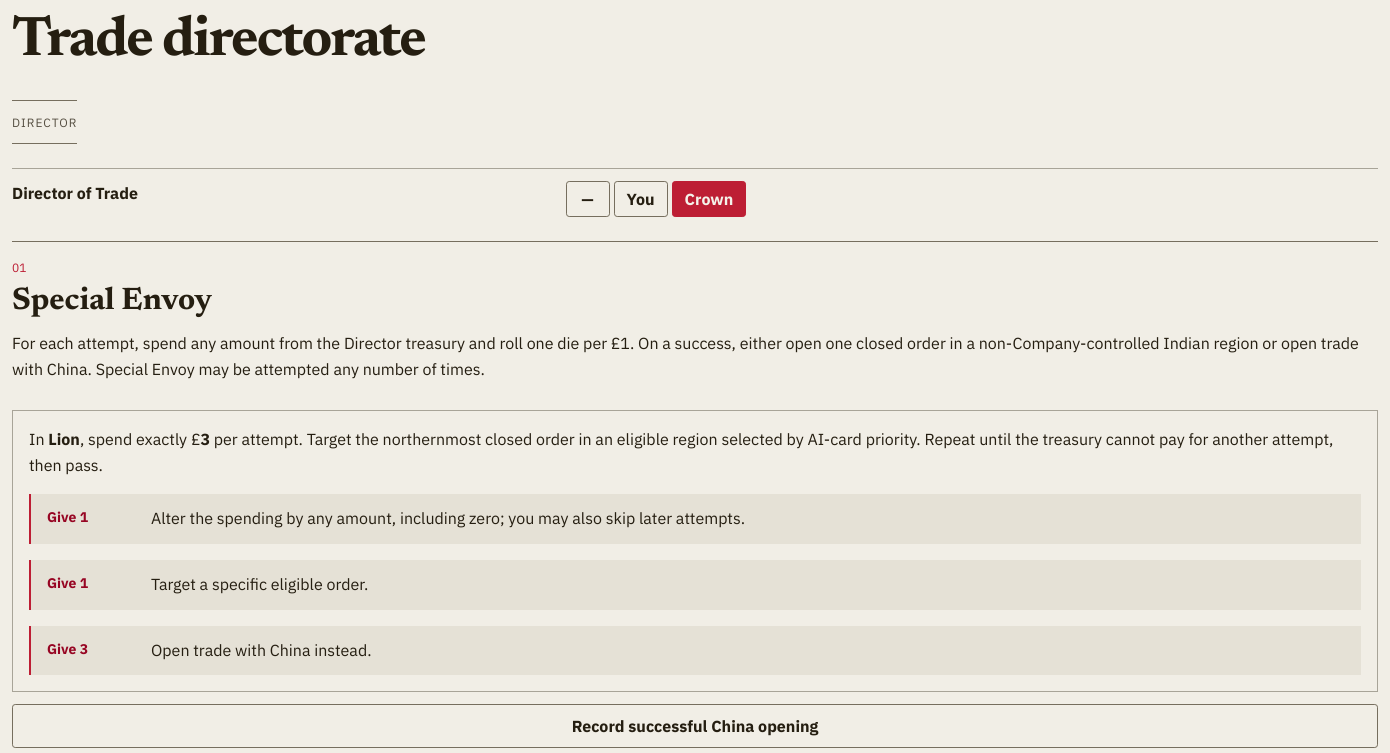
Test: solo operation phases › renders the Crown Director's active-climate procedure and records a successful China opening
Click the button "Record successful China opening": click(695, 726) [12, 704, 1378, 748]
(page scrolled)
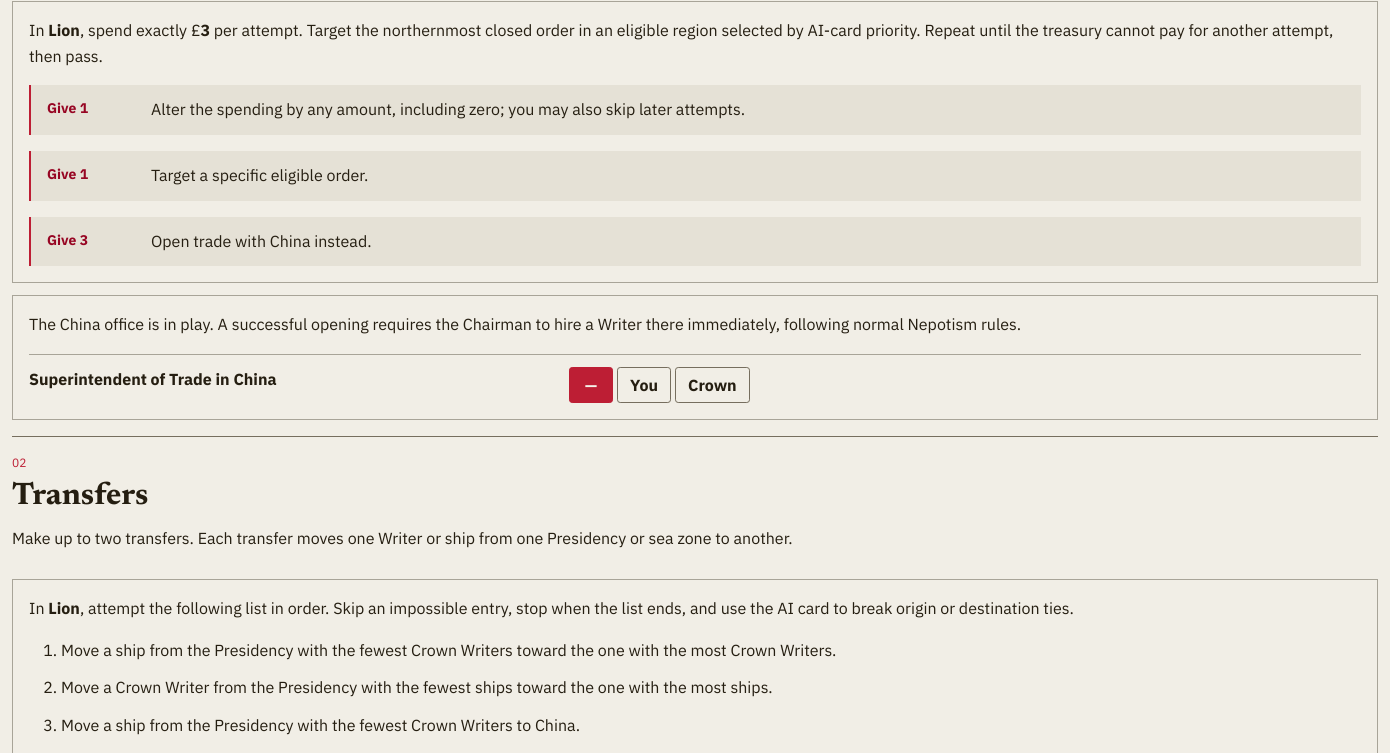
expect the text "China office is in play" is shown: met, box [29, 314, 1021, 334]
expect the element named "Superintendent of Trade in China holder" is shown: met, box [569, 367, 750, 409]
